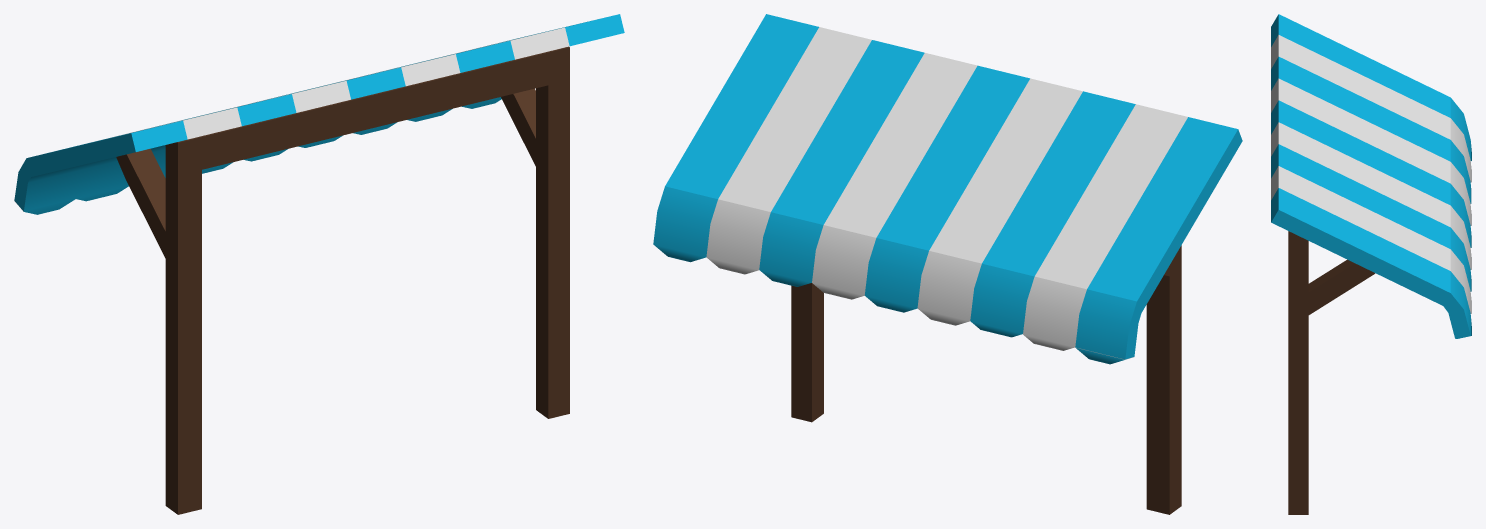
The model's file is BlueMarketStand.glb.
3 renders of one model, left to right at view 1: azimuth 30°, elevation 25°; view 2: azimuth 150°, elevation 25°; view 3: azimuth 270°, elevation 25°, orthographic. The views are drawn at different scales.
Visible parts, largest first — view 1: Cube.105; view 2: Cube.105; view 3: Cube.105.
Boxes of the visible parts, x1,y1,x2,y2 form: Cube.105: (14, 14, 624, 514); Cube.105: (653, 14, 1242, 514); Cube.105: (1271, 14, 1471, 514).
Bounding box in the file's own units: 7.96 × 6.21 × 3.45.
